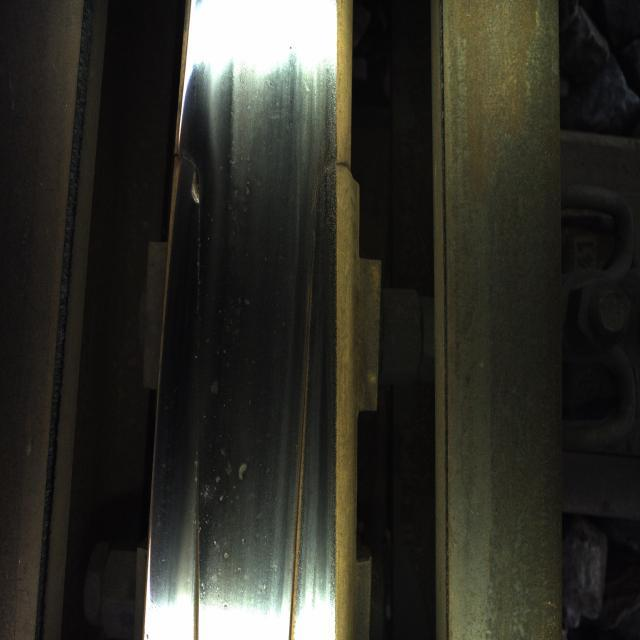normal: (211, 22, 285, 632)
